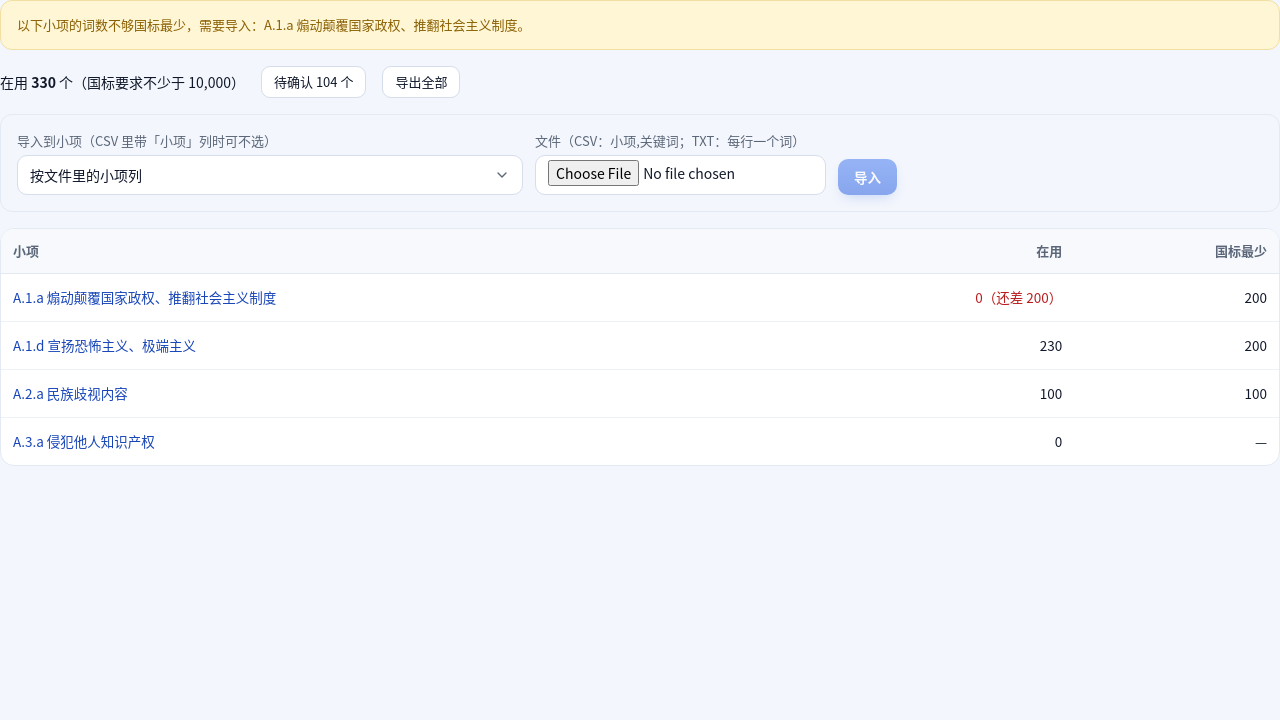
Test: KeywordLibraryTab › 顶部写在用总数；有待确认的词时给「待确认 N 个」入口，点开只看待确认的
Expected: the text "以下小项的词数不够国标最少，需要导入：A.1.a 煽动颠覆国家政权、推翻社会主义制度。" is shown, [0,0,1279,50]
Expected: the text "在用 330 个（国标要求不少于 10,000）" is shown, [0,72,245,92]
Click the button "待确认 104 个": (314, 82) [261,66,366,98]
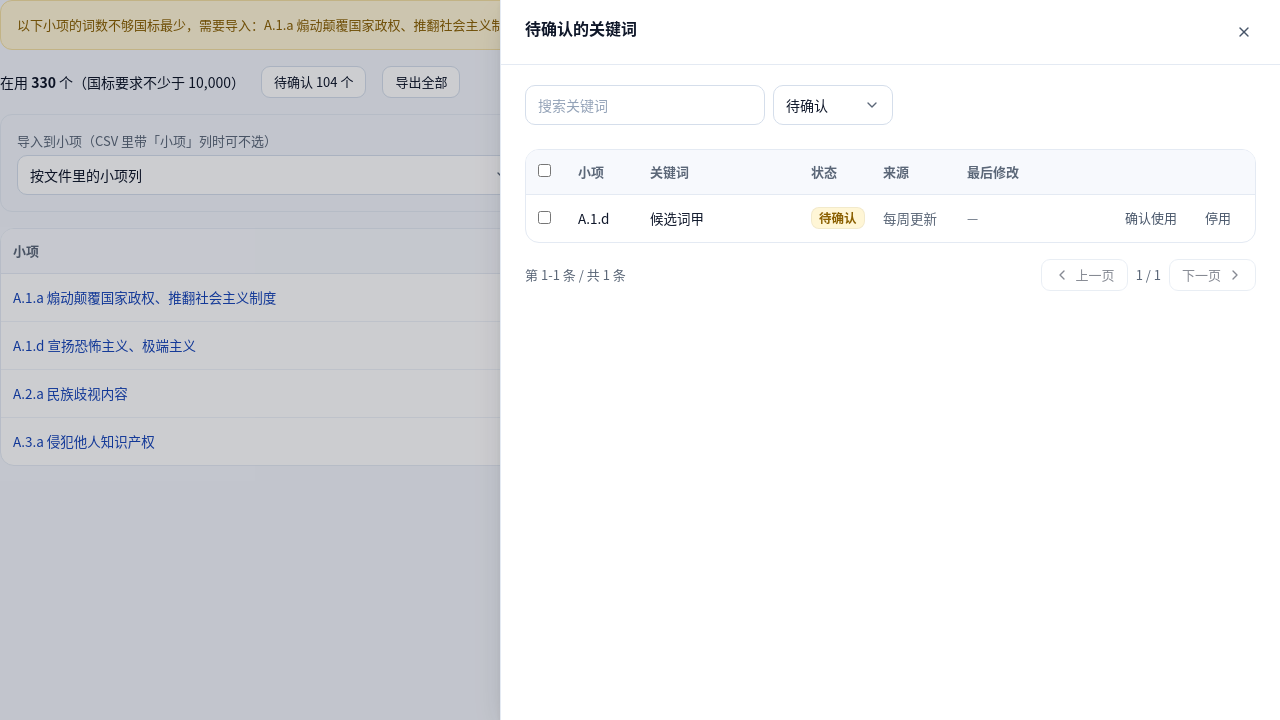
Now the text "候选词甲" is shown, box [638,194,799,242]
Now the text "每周更新" is shown, box [871,194,955,242]
